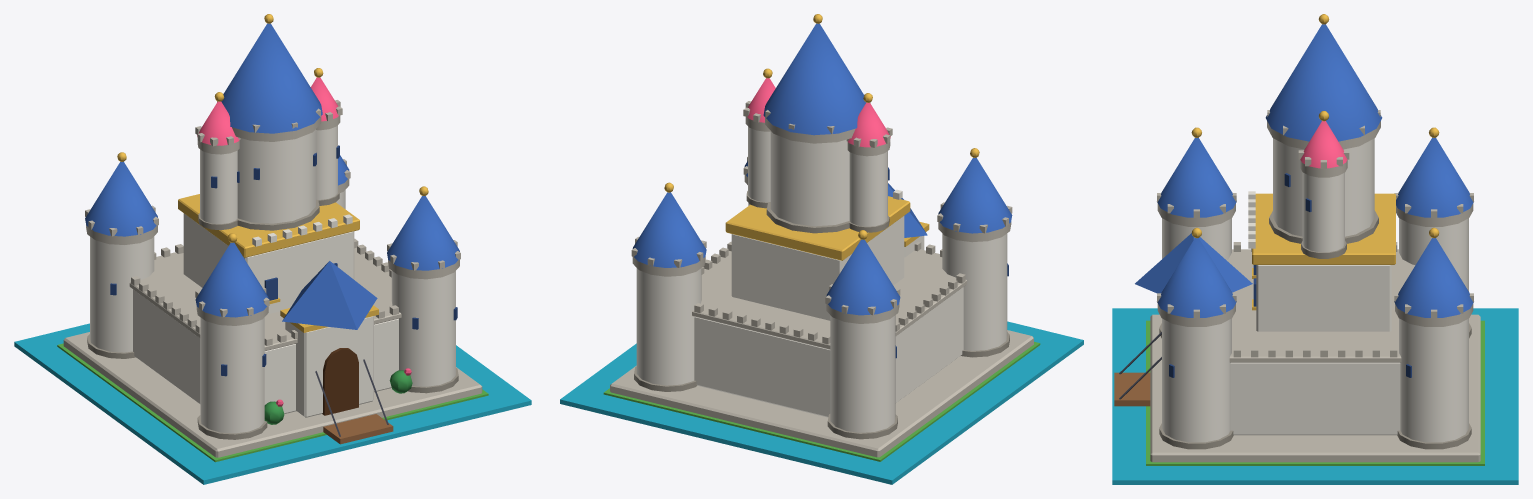
Rendered from magic-castle.glb.
The picture shows the model from 3 angles, left to right: view 1: azimuth 30°, elevation 25°; view 2: azimuth 150°, elevation 25°; view 3: azimuth 270°, elevation 25°; orthographic projection. The views are drawn at different scales.
Parts seen in each view (by area): view 1: model; view 2: model; view 3: model.
Boxes of the visible parts, <box> form: model: <box>14,14,531,484</box>; model: <box>560,14,1083,484</box>; model: <box>1112,14,1518,484</box>.
Bounding box in the file's own units: 3.84 × 4.01 × 3.84.
Materials: 1 (1 with a texture image).
